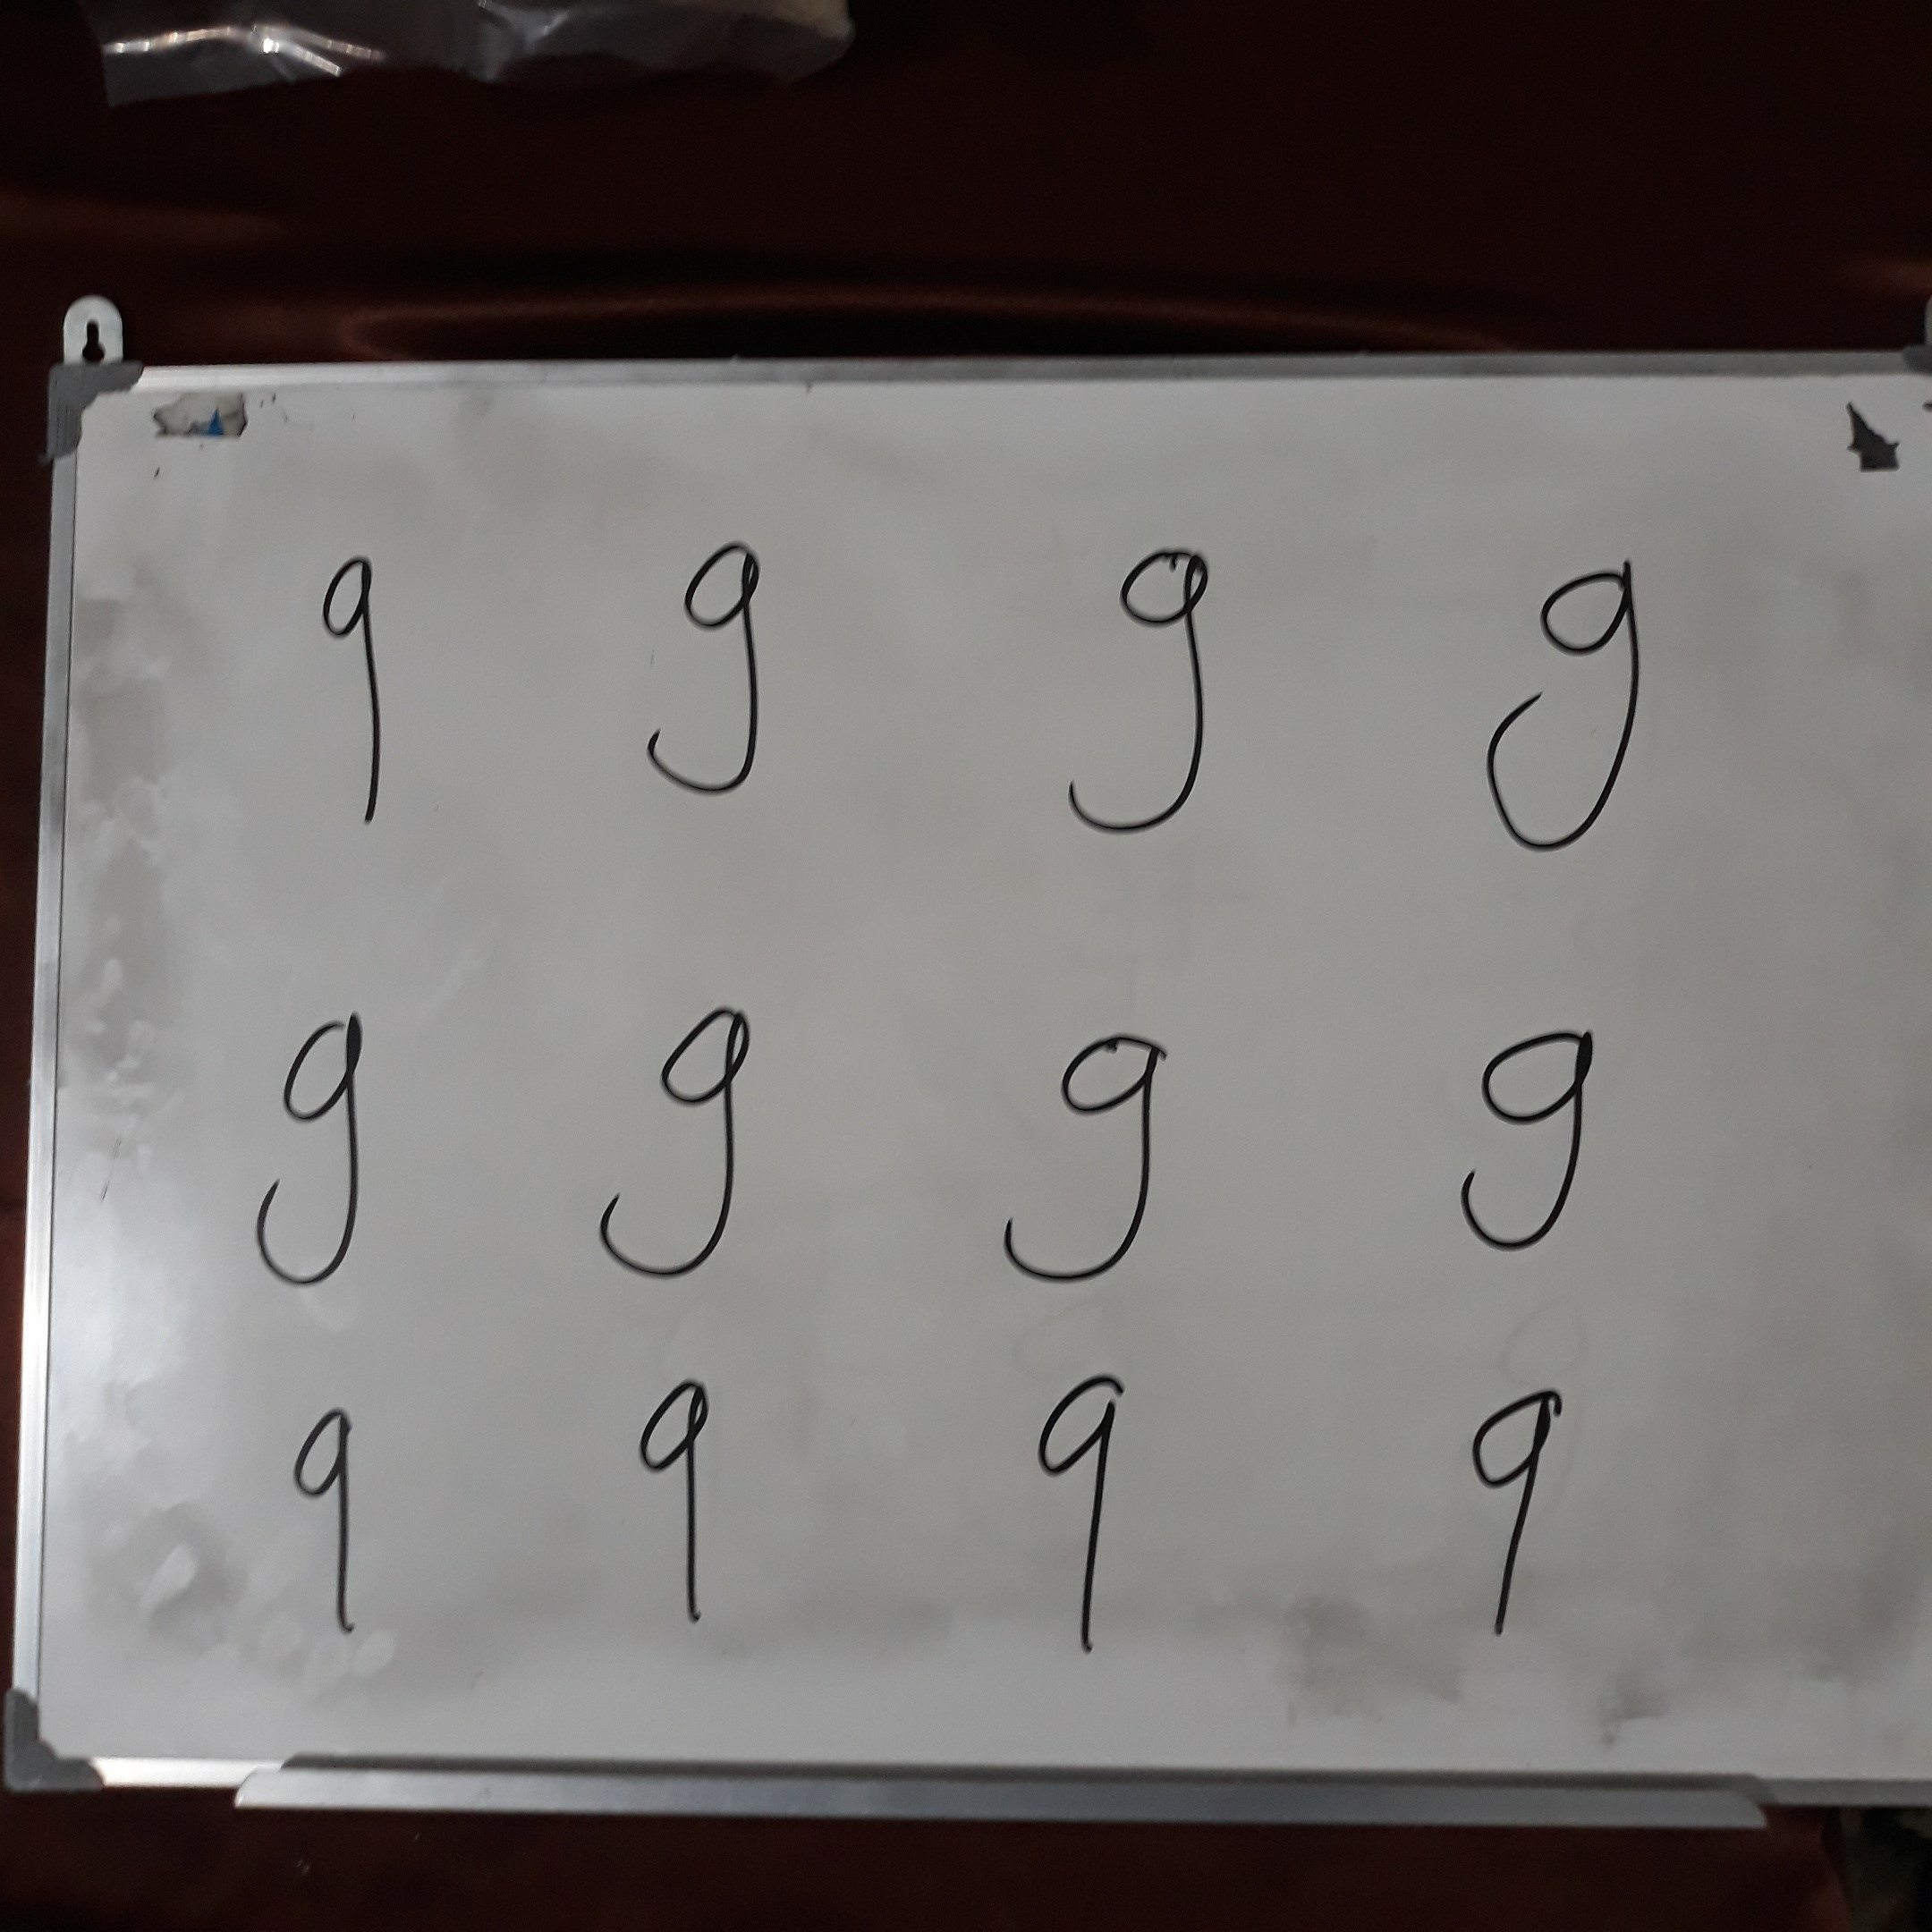num9: (1468, 529, 1670, 873), (984, 1001, 1182, 1301), (580, 990, 772, 1291), (1049, 526, 1226, 845), (1442, 1007, 1610, 1270), (244, 1000, 386, 1294), (641, 513, 775, 819), (1453, 1354, 1573, 1661), (1024, 1363, 1137, 1678), (287, 539, 402, 839), (266, 1384, 386, 1644), (622, 1363, 733, 1640)
